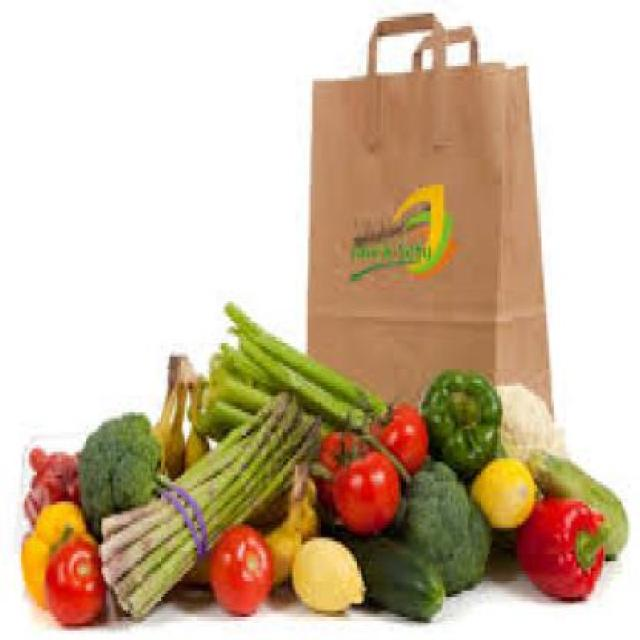BIODEGRADABLE: (96, 386, 296, 614), (170, 462, 318, 584), (222, 300, 382, 412), (226, 320, 362, 426), (397, 458, 485, 591), (522, 446, 626, 554), (74, 412, 155, 538), (334, 521, 440, 617), (509, 494, 606, 598), (415, 370, 500, 472), (17, 498, 91, 607), (147, 350, 207, 475), (329, 426, 394, 532), (42, 522, 106, 626), (206, 521, 271, 614), (494, 380, 564, 466), (22, 446, 76, 532), (468, 458, 534, 522), (365, 399, 423, 468), (310, 428, 359, 506), (219, 340, 273, 389), (204, 353, 258, 402), (197, 372, 246, 426), (195, 400, 227, 438)
PAPER: (305, 6, 549, 409)
